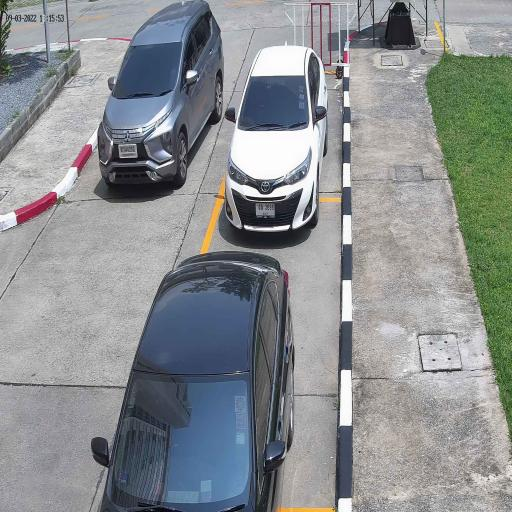car: (100, 248, 297, 512), (97, 0, 225, 190), (224, 44, 330, 238)
